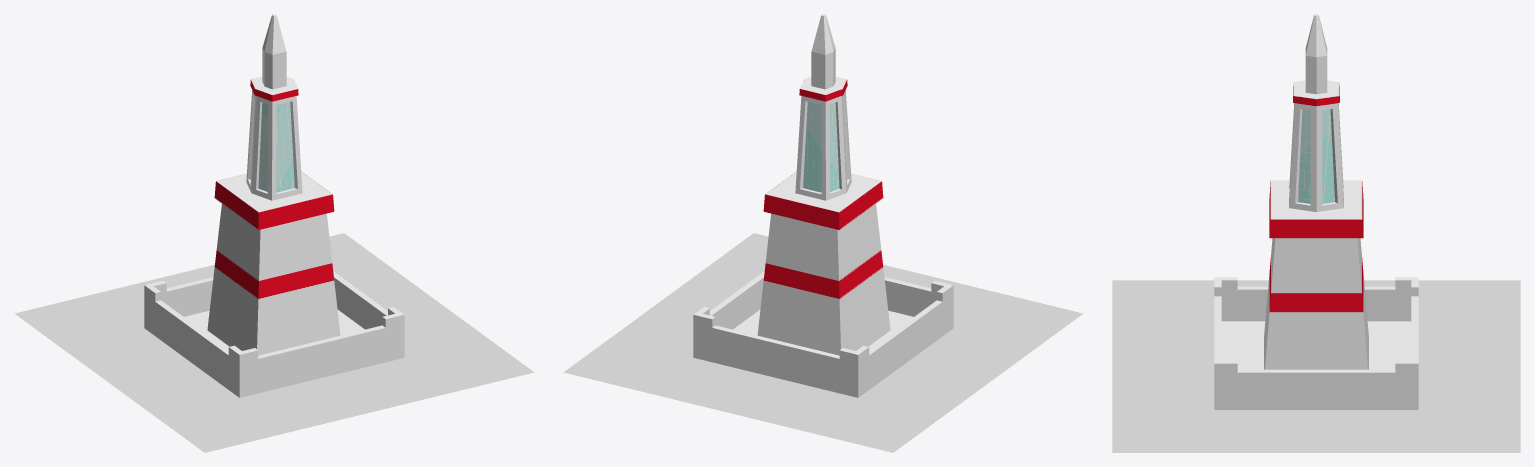
The model's file is Lighthouse (Pharos of Alexandria).fbx.
3 renders of one model, left to right at view 1: azimuth 30°, elevation 25°; view 2: azimuth 150°, elevation 25°; view 3: azimuth 270°, elevation 25°, orthographic. The views are drawn at different scales.
Visible parts, largest first — view 1: Cube.015, Plane.004; view 2: Cube.015, Plane.004; view 3: Plane.004, Cube.015.
Part boxes in pixels (box(x1,y1,x2,y2)): Cube.015: box(144, 14, 404, 397); Plane.004: box(14, 233, 534, 452); Cube.015: box(693, 14, 953, 397); Plane.004: box(563, 233, 1083, 452); Plane.004: box(1112, 280, 1520, 452); Cube.015: box(1214, 14, 1418, 409).
Size of the model in its own units: 200 by 190 by 200.
